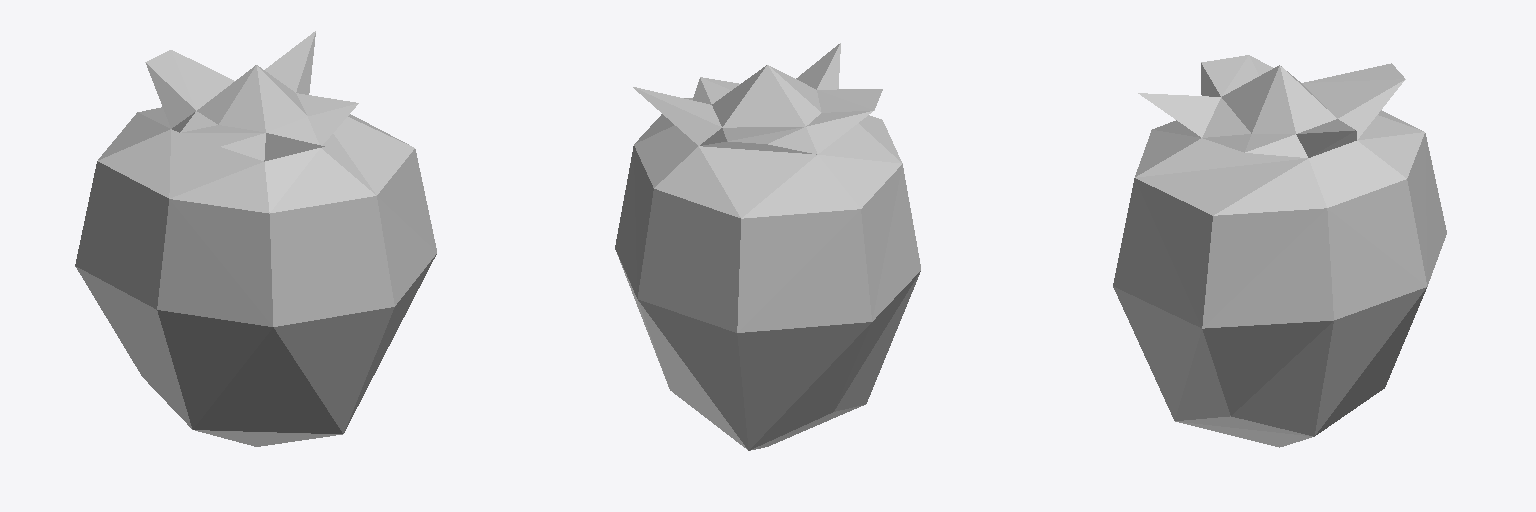
Rendered from SM_Prop_Strawberry_01_L.obj.
The picture shows the model from 3 angles: view 1: azimuth 30°, elevation 25°; view 2: azimuth 150°, elevation 25°; view 3: azimuth 270°, elevation 25°; orthographic projection.
Bounding box in the file's own units: 7.42 × 9.52 × 7.54.